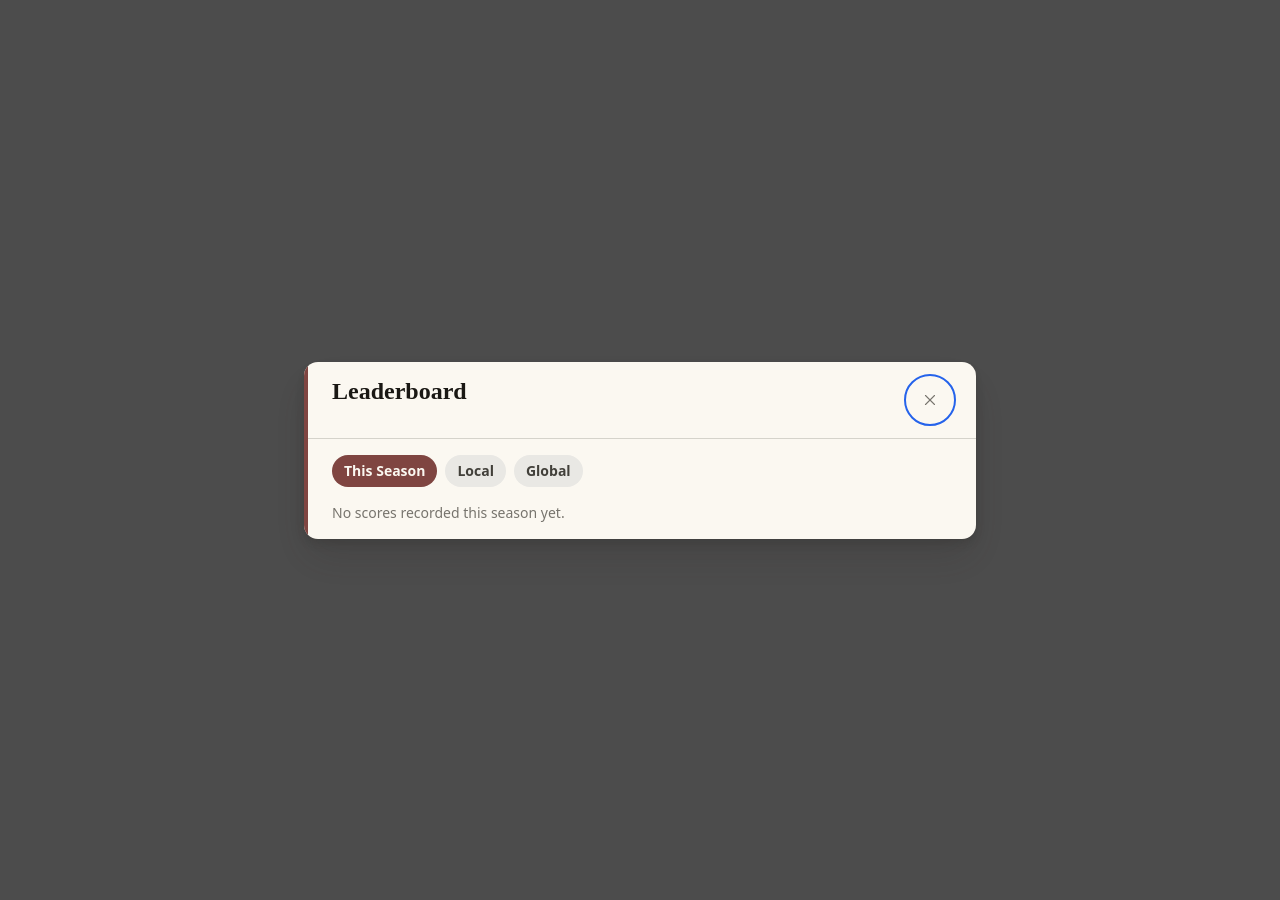
Test: LeaderboardModal › renders local leaderboard entries with score
Expected: the heading "Leaderboard" is shown, x1=332 y1=378 x2=467 y2=404
Click the button "Local" at (476, 470), box x1=446 y1=454 x2=506 y2=486
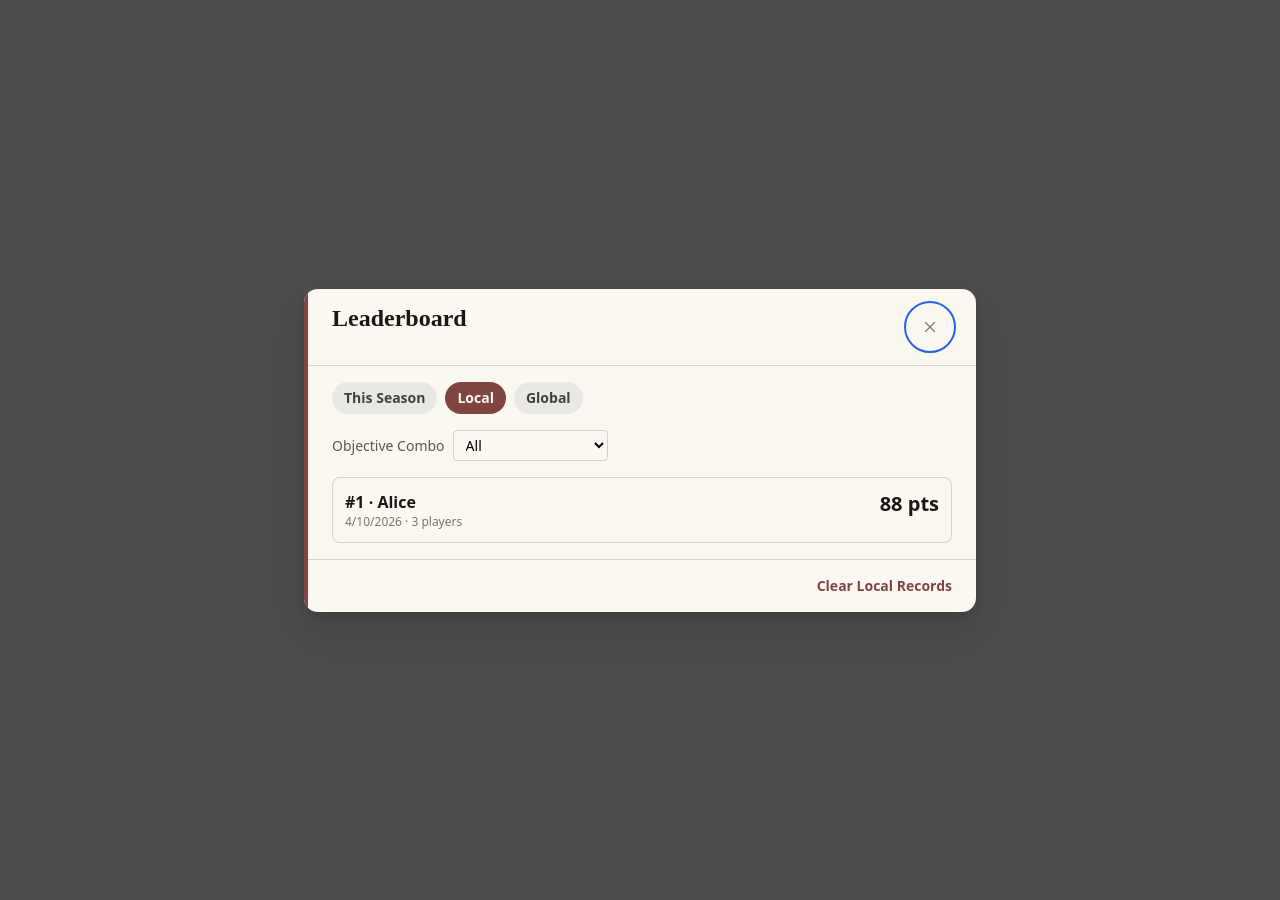
Expected: the text "#1 · Alice" is shown, x1=345 y1=490 x2=416 y2=512
Expected: the text "88 pts" is shown, x1=880 y1=490 x2=939 y2=530
